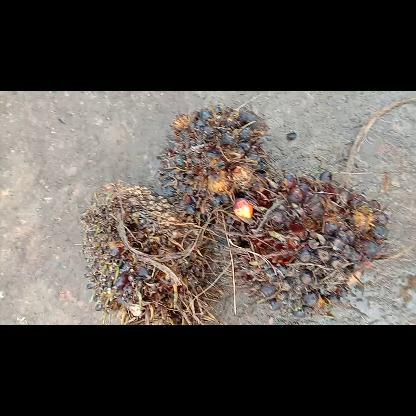TBS abnormal: (219, 172, 389, 316), (80, 182, 224, 324), (158, 105, 268, 219)
